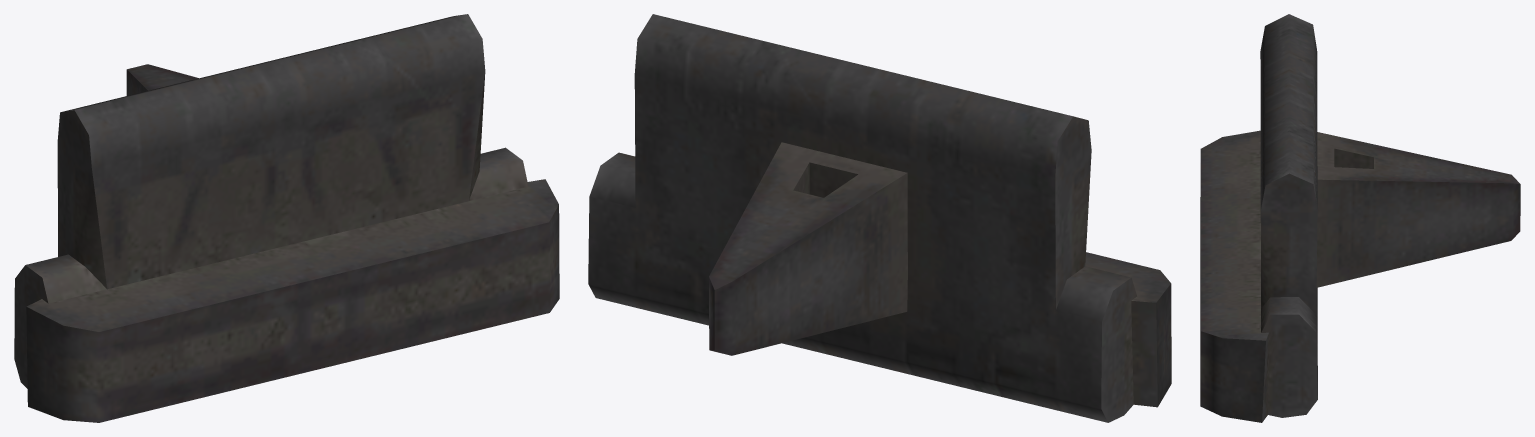
3 renders of one model, left to right at view 1: azimuth 30°, elevation 25°; view 2: azimuth 150°, elevation 25°; view 3: azimuth 270°, elevation 25°, orthographic. The views are drawn at different scales.
Visible parts, largest first — view 1: set_0_group_0; view 2: set_0_group_0; view 3: set_0_group_0.
Boxes of the visible parts, x1=… form: set_0_group_0: x1=14, y1=14, x2=559, y2=422; set_0_group_0: x1=588, y1=14, x2=1171, y2=422; set_0_group_0: x1=1200, y1=14, x2=1520, y2=422.
Size of the model in its own units: 0.2718 by 0.1363 by 0.1745.
Materials: 1 (1 with a texture image).
